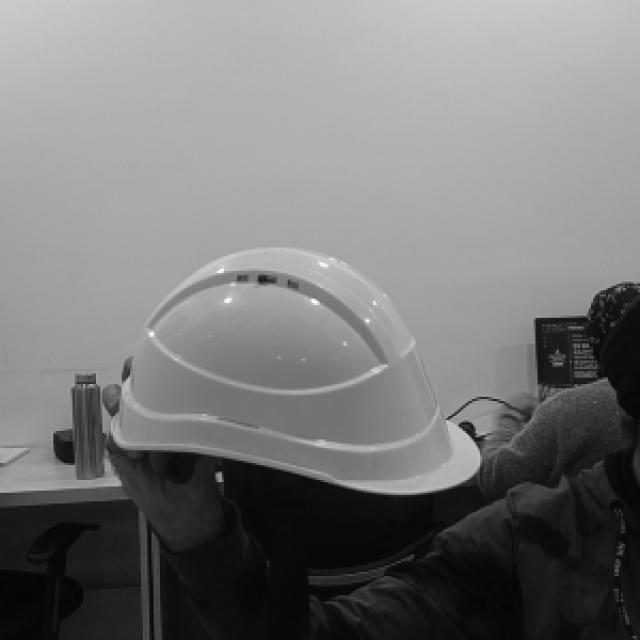safety_helmet: (112, 245, 483, 497)
